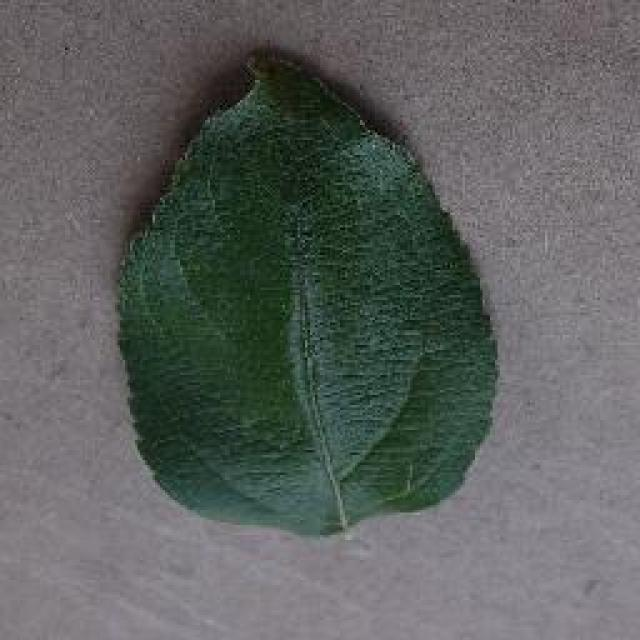apple healthy: (112, 42, 500, 538)
